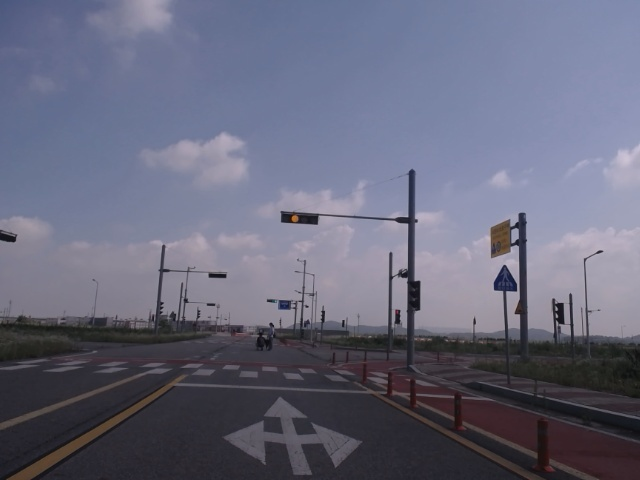orange_4: (282, 211, 320, 225)
